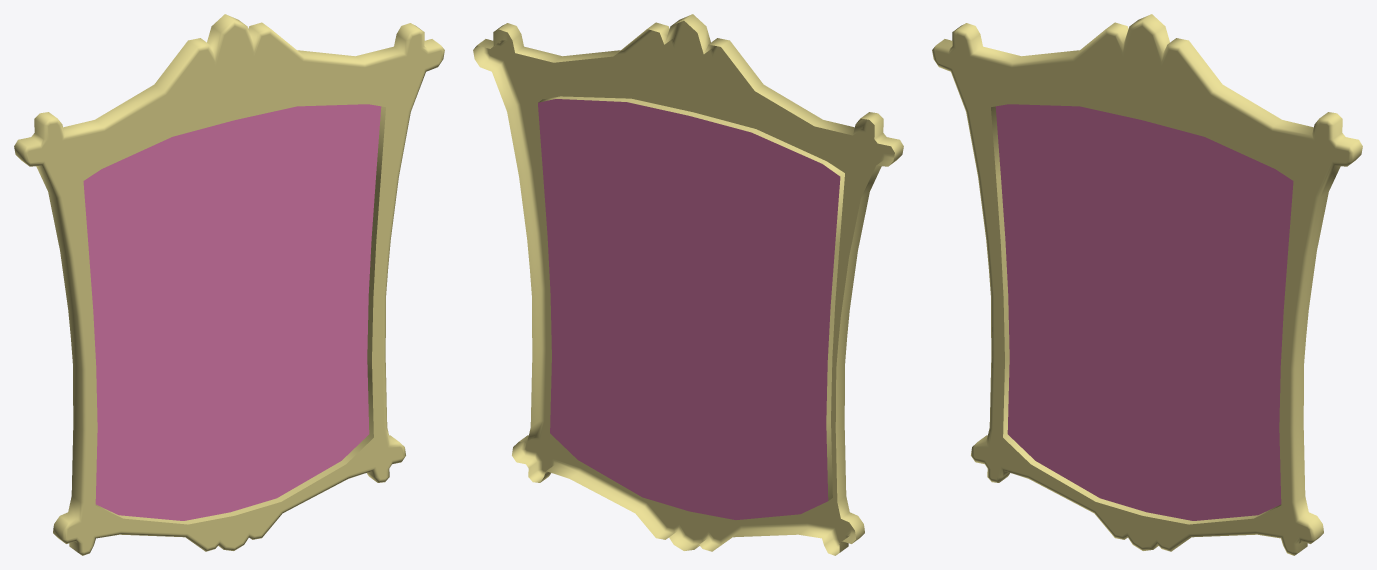
The model's file is SM_Painting.fbx.
3 views of the same model, side by side, from view 1: azimuth 30°, elevation 25°; view 2: azimuth 150°, elevation 25°; view 3: azimuth 330°, elevation 25° (orthographic).
Visible parts, largest first — view 1: SM_Painting; view 2: SM_Painting; view 3: SM_Painting.
Boxes of the visible parts, left/top/right/bottom form: SM_Painting: left=14, top=14, right=444, bottom=555; SM_Painting: left=473, top=14, right=903, bottom=555; SM_Painting: left=932, top=14, right=1362, bottom=555.
Size of the model in its own units: 2.93 by 0.1173 by 3.52.
